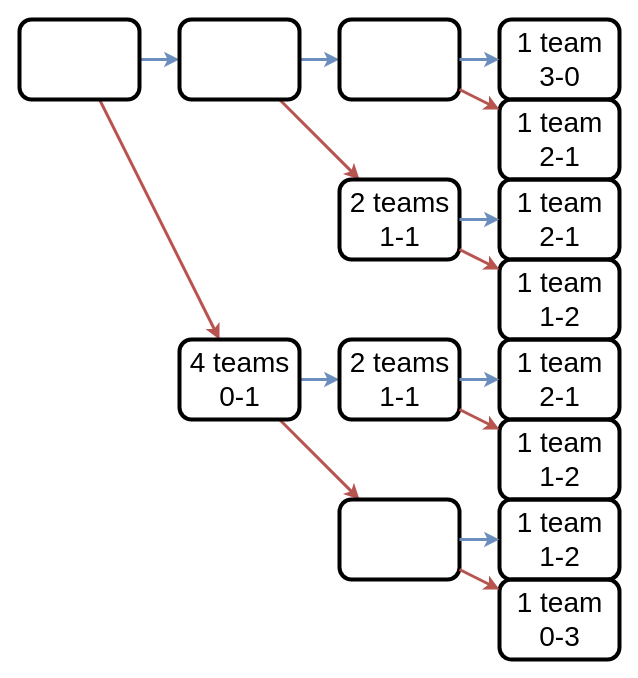
This 638x678 diagram has some shape labels left out. The box of each missing label's shape, as (x1, y1, x2, y2) in pixels:
2 teams 0-2: (337, 497, 461, 581)
2 teams 2-0: (337, 17, 461, 101)
4 teams 1-0: (177, 17, 301, 101)
8 teams 0-0: (17, 17, 141, 101)
